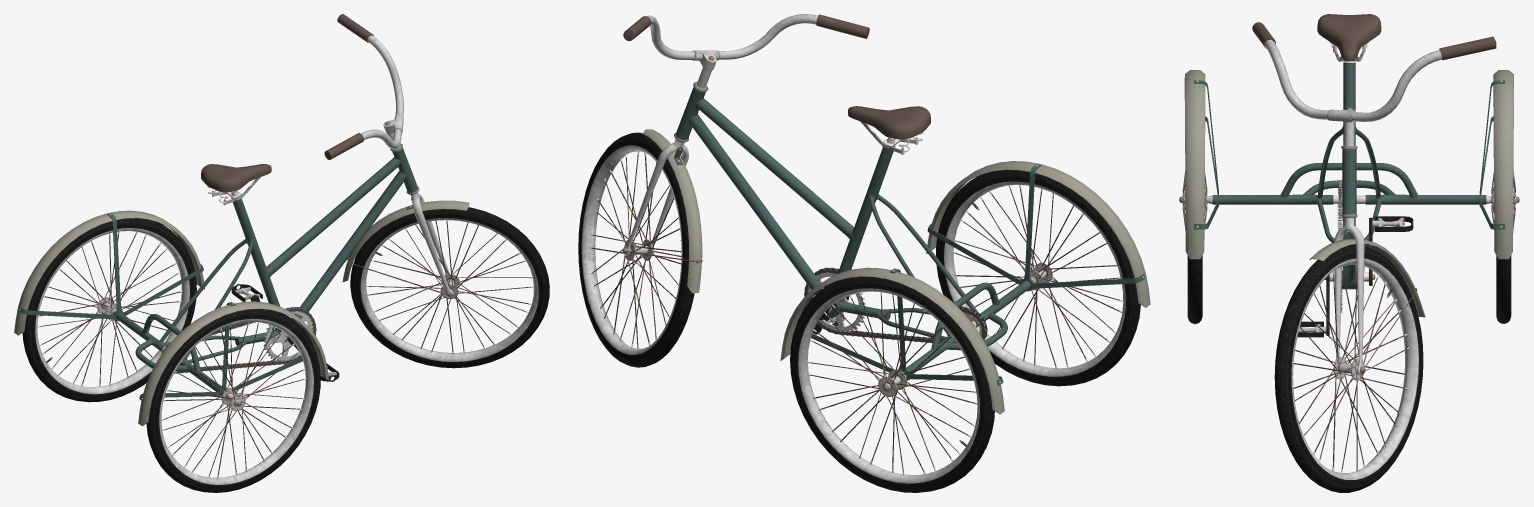
Rendered from bicycle.glb.
3 views of the same model, side by side, from view 1: azimuth 30°, elevation 25°; view 2: azimuth 150°, elevation 25°; view 3: azimuth 270°, elevation 25° (orthographic). The views are drawn at different scales.
Parts seen in each view (by area): view 1: Bicycle; view 2: Bicycle; view 3: Bicycle.
Part boxes in pixels (<box>): Bicycle: <box>14,14,549,492</box>; Bicycle: <box>578,14,1150,492</box>; Bicycle: <box>1179,14,1519,492</box>.
Bounding box in the file's own units: 161 × 115 × 85.62.
Materials: 2 (2 with a texture image).
